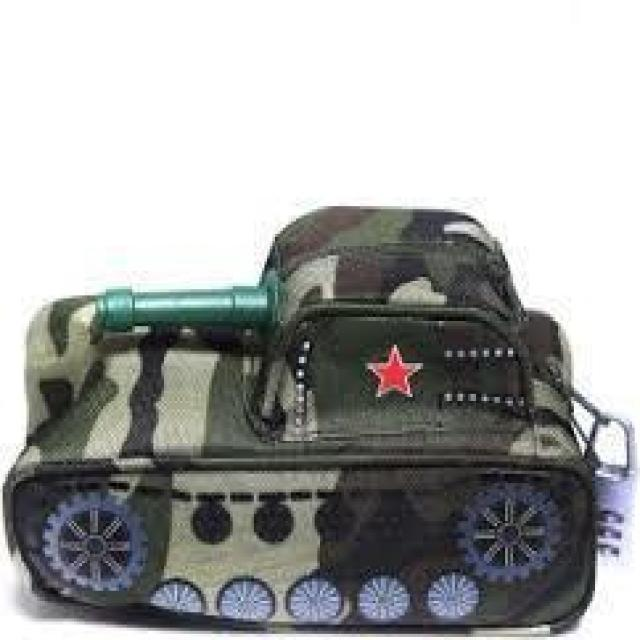Tanks: (3, 205, 637, 632)
